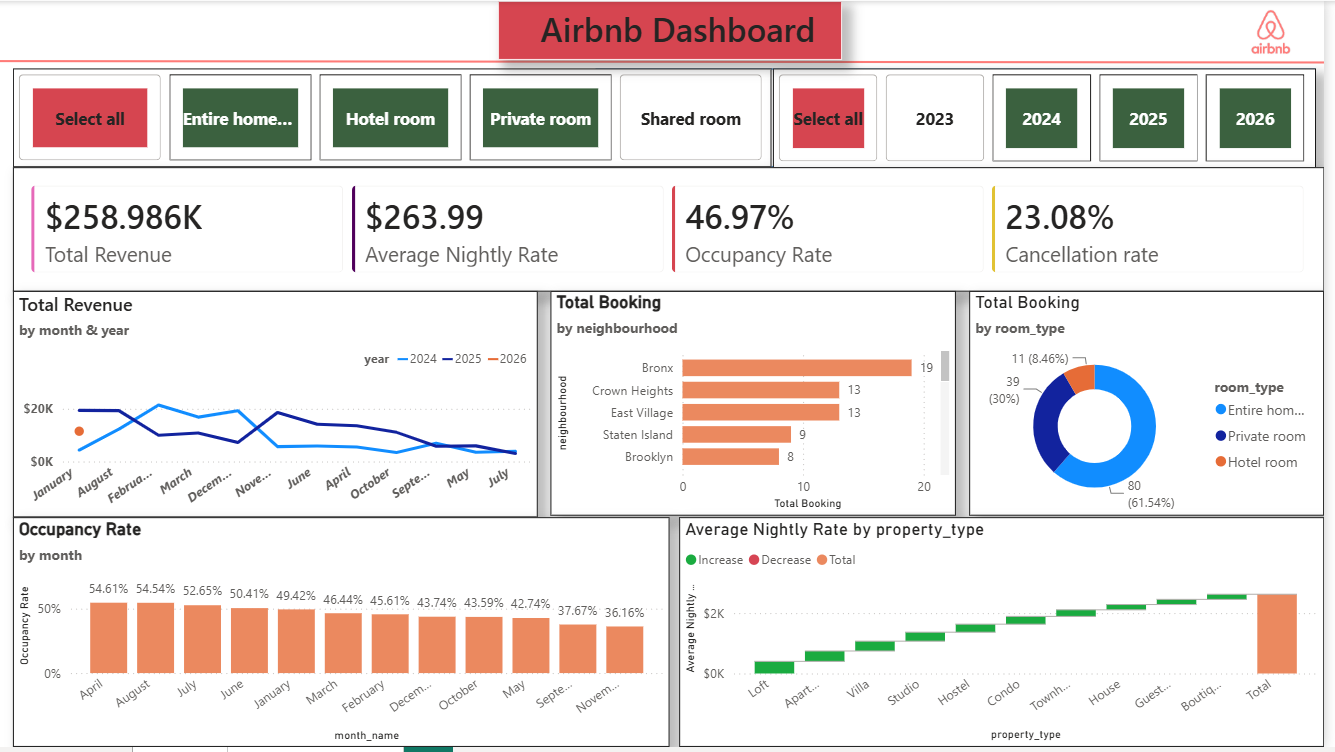

This screenshot's page, from the dashboard's own definition file:
{"tool":"powerbi","page":{"name":"Airbnb Dashboard","canvas":[1280,720],"ordinal":1},"visuals":[{"type":"shape","box":[576.7,65.1,694.9,95.3],"z":0},{"type":"shape","box":[14.5,174.9,1257.1,92.9],"z":1000},{"type":"shape","box":[14.5,279.9,536.9,203.9],"z":2000},{"type":"shape","box":[576.7,294.4,360.7,203.9],"z":3000},{"type":"shape","box":[937.4,279.9,334.2,203.9],"z":4000},{"type":"shape","box":[14.5,498.3,562.2,222],"z":5000},{"type":"shape","box":[657.5,498.3,614.1,203.9],"z":6000},{"type":"advancedSlicerVisual","fields":{"Values":["dim_property.room_type"]},"box":[14.5,65.1,732.3,95.3],"z":7000},{"type":"advancedSlicerVisual","fields":{"Values":["dim_date.year"]},"box":[747.6,65,523.9,96.3],"z":8000},{"type":"cardVisual","fields":{"Data":["Measure Table.Total Revenue","Measure Table.Average Nightly Rate","Measure Table.Occupancy Rate","Measure Table.Cancellation rate"]},"box":[15,160,1265.3,120],"z":9000},{"type":"lineChart","title":"Total Revenue","fields":{"Category":["dim_date.month_name"],"Y":["Measure Table.Total Revenue"],"Series":["dim_date.year"]},"box":[14.5,279.9,506.7,218.4],"z":10000},{"type":"textbox","box":[482.6,0,331.8,56.7],"z":11000},{"type":"clusteredBarChart","title":"Total Booking ","fields":{"Category":["dim_location.neighbourhood"],"Y":["Measure Table.Total Booking"]},"box":[533.2,279.9,390.9,217.2],"z":12000},{"type":"donutChart","title":"Total Booking","fields":{"Category":["dim_property.room_type"],"Y":["Measure Table.Total Booking"]},"box":[937.4,279.9,342.6,217.2],"z":13000},{"type":"columnChart","title":"Occupancy Rate ","fields":{"Category":["dim_date.month_name"],"Y":["Measure Table.Occupancy Rate"]},"box":[14.5,498.3,633.4,222],"z":14000},{"type":"waterfallChart","fields":{"Category":["dim_property.property_type"],"Y":["Measure Table.Average Nightly Rate"]},"box":[657.5,498.3,622.5,222],"z":15000}]}

Visuals, with their boxes in screenshot pixels (x1, y1, x2, y2), scaled from the page's 1280x720 canvas onto the 1335x752 screenshot:
shape: 601, 68, 1326, 168
shape: 15, 183, 1326, 280
shape: 15, 292, 575, 505
shape: 601, 307, 978, 520
shape: 978, 292, 1326, 505
shape: 15, 520, 601, 751
shape: 686, 520, 1326, 733
advancedSlicerVisual - dim_property.room_type: 15, 68, 779, 168
advancedSlicerVisual - dim_date.year: 780, 68, 1326, 168
cardVisual - Measure Table.Total Revenue x Measure Table.Average Nightly Rate: 16, 167, 1334, 292
"Total Revenue" lineChart: 15, 292, 544, 520
textbox: 503, 0, 849, 59
"Total Booking " clusteredBarChart: 556, 292, 964, 519
"Total Booking" donutChart: 978, 292, 1334, 519
"Occupancy Rate " columnChart: 15, 520, 676, 751
waterfallChart - dim_property.property_type x Measure Table.Average Nightly Rate: 686, 520, 1334, 751
